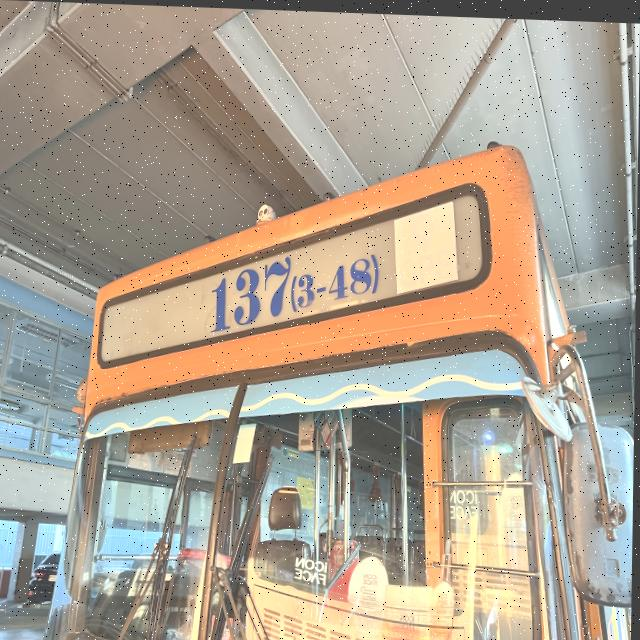BMTA-bus: (49, 140, 635, 640)
Bus Line Number: (205, 220, 389, 336)
